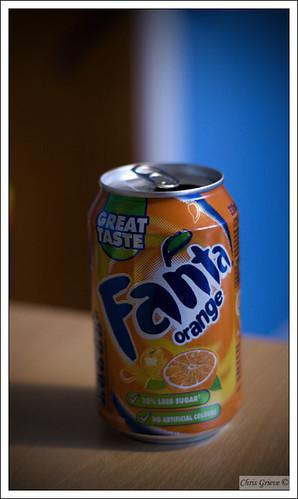metal: (89, 164, 242, 442)
